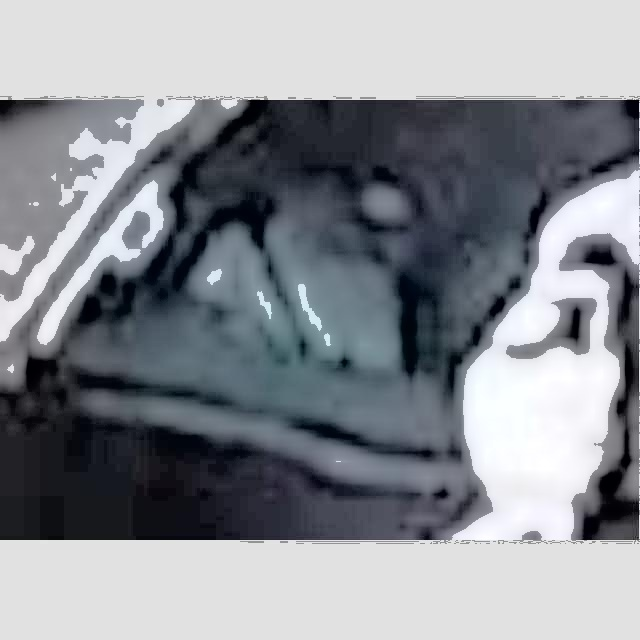pakai: (183, 183, 407, 408)
